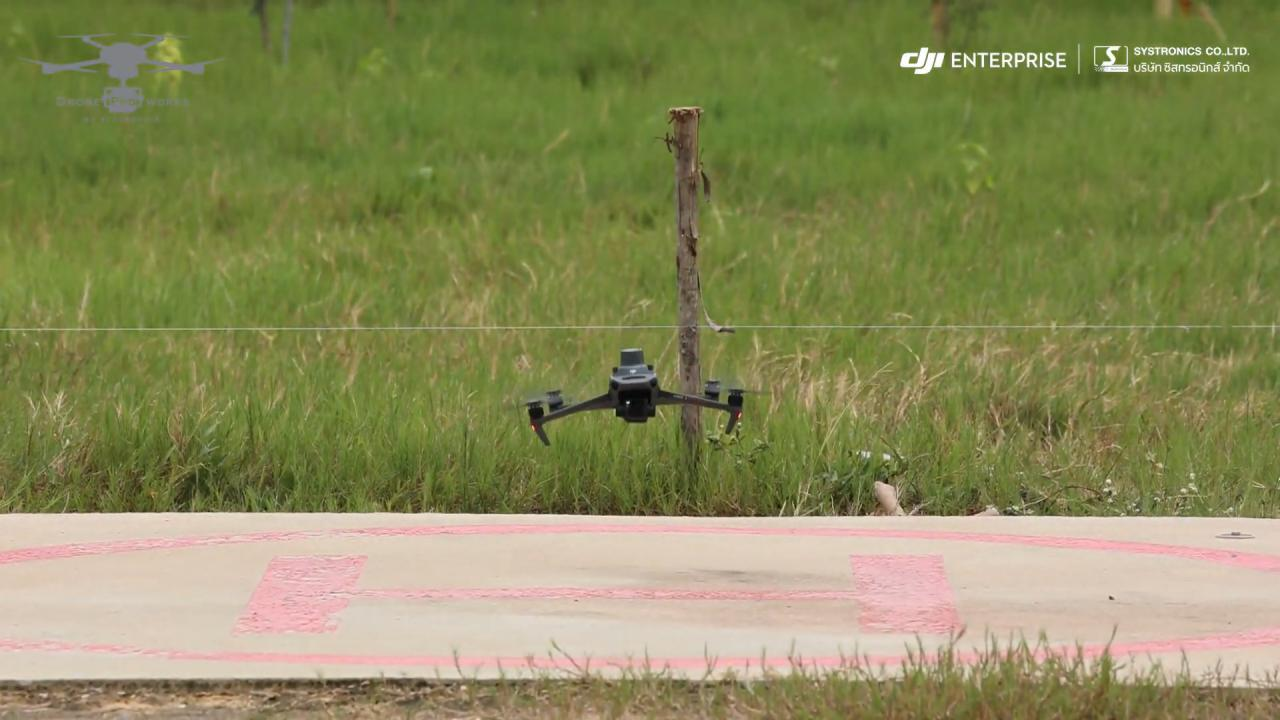Drone: (490, 336, 778, 457)
